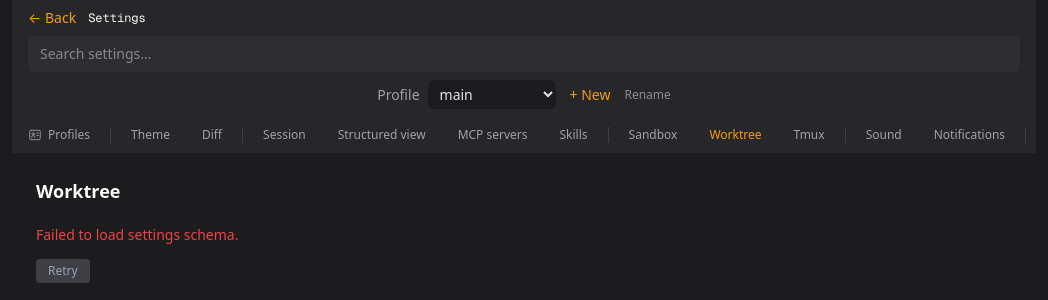
SettingsView schema load › shows an error + retry when the schema fails, then recovers
This screenshot has width=1048, height=300.
Expected: the text "Failed to load settings schema." is shown, [36,225,238,244]
Click the button "Retry" at (63, 271), box [36,259,90,283]
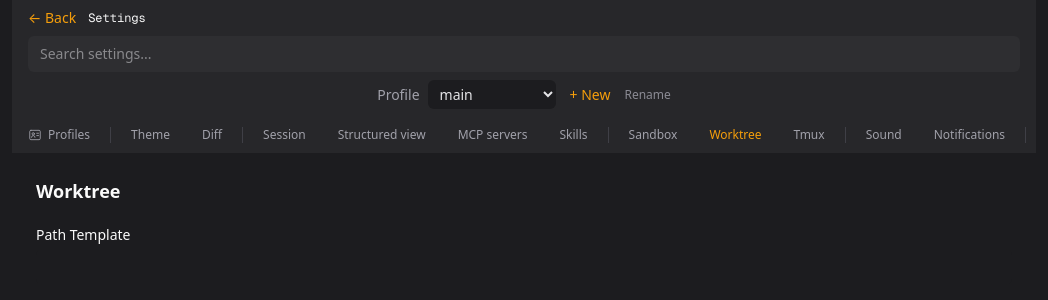
Expected: the text "Path Template" is shown, [36,225,130,244]
Expected: the text "Failed to load settings schema." is gone
